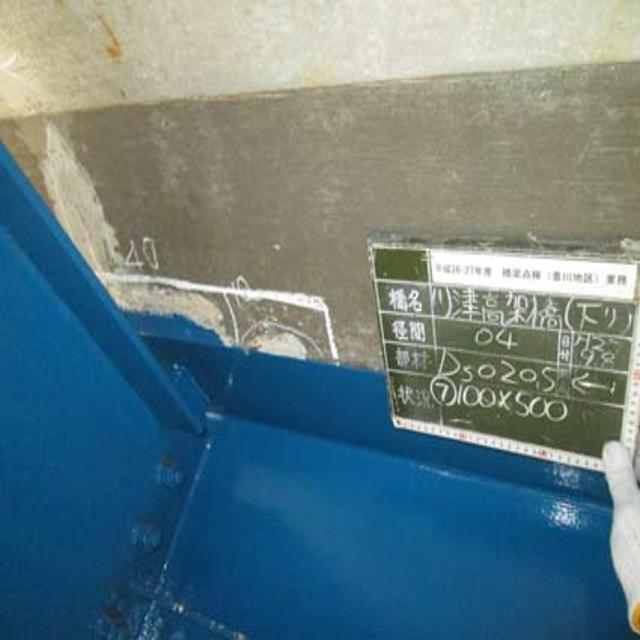freelime: (36, 140, 327, 369)
